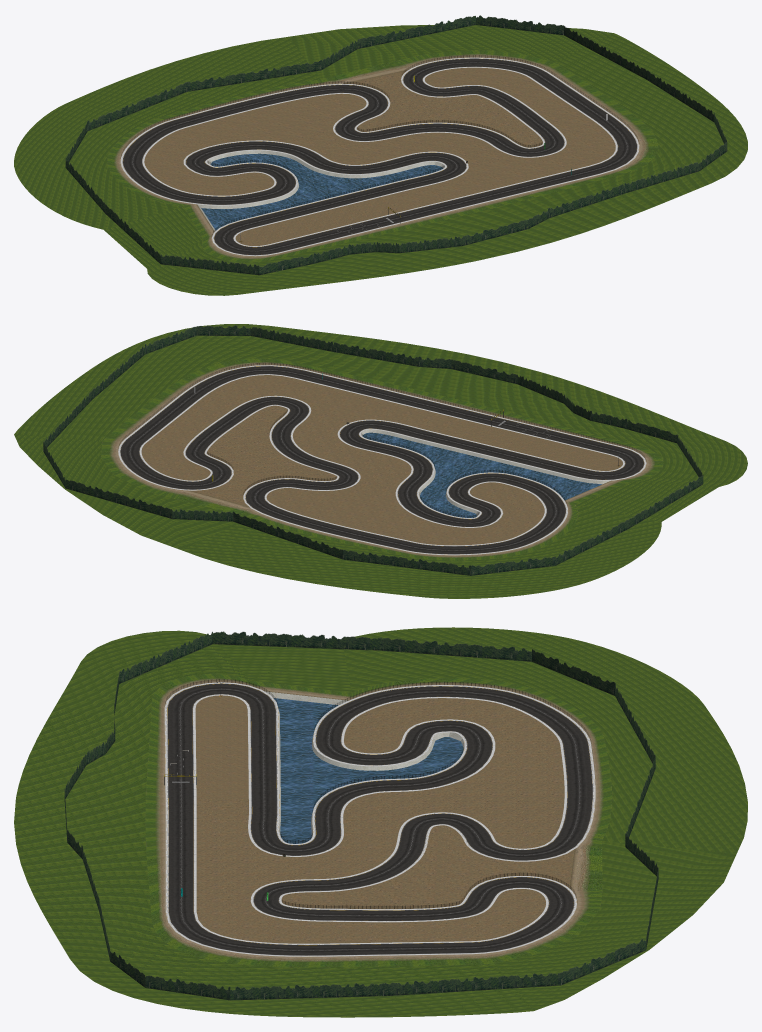
The model's file is drift_tracks.glb.
The picture shows the model from 3 angles, top to bottom: view 1: azimuth 30°, elevation 25°; view 2: azimuth 150°, elevation 25°; view 3: azimuth 270°, elevation 25°; orthographic projection. The views are drawn at different scales.
Visible parts, largest first — view 1: Ground.01, Ground 2, Drift Track, Plane, Grass edge, Kerbs, water, Fence, Pond Bench; view 2: Ground.01, Ground 2, Drift Track, Plane, Grass edge, Kerbs, water, Fence, Pond Bench; view 3: Ground.01, Ground 2, Drift Track, Grass edge, Plane, Kerbs, water, Fence, Pond Bench.
Boxes of the visible parts, bbox=[...] form: Ground.01: bbox=[14, 25, 747, 295]; Ground 2: bbox=[144, 67, 615, 245]; Drift Track: bbox=[123, 58, 636, 255]; Plane: bbox=[65, 15, 727, 275]; Grass edge: bbox=[107, 49, 658, 262]; Kerbs: bbox=[120, 57, 639, 256]; water: bbox=[201, 153, 443, 230]; Fence: bbox=[121, 55, 638, 234]; Pond Bench: bbox=[197, 150, 444, 231]; Ground.01: bbox=[14, 324, 747, 598]; Ground 2: bbox=[141, 375, 622, 545]; Drift Track: bbox=[120, 366, 643, 554]; Plane: bbox=[43, 325, 703, 575]; Grass edge: bbox=[101, 358, 663, 560]; Kerbs: bbox=[118, 365, 646, 555]; water: bbox=[362, 432, 601, 517]; Fence: bbox=[118, 363, 645, 517]; Pond Bench: bbox=[361, 429, 610, 515]; Ground.01: bbox=[14, 627, 747, 1017]; Ground 2: bbox=[195, 695, 574, 943]; Drift Track: bbox=[168, 683, 592, 955]; Grass edge: bbox=[145, 674, 612, 967]; Plane: bbox=[64, 631, 658, 1000]; Kerbs: bbox=[164, 682, 595, 956]; water: bbox=[273, 698, 463, 843]; Fence: bbox=[165, 679, 590, 908]; Pond Bench: bbox=[265, 691, 464, 837].
Bounding box in the file's own units: 431 × 10.59 × 343.
Materials: 14 (13 with a texture image).
